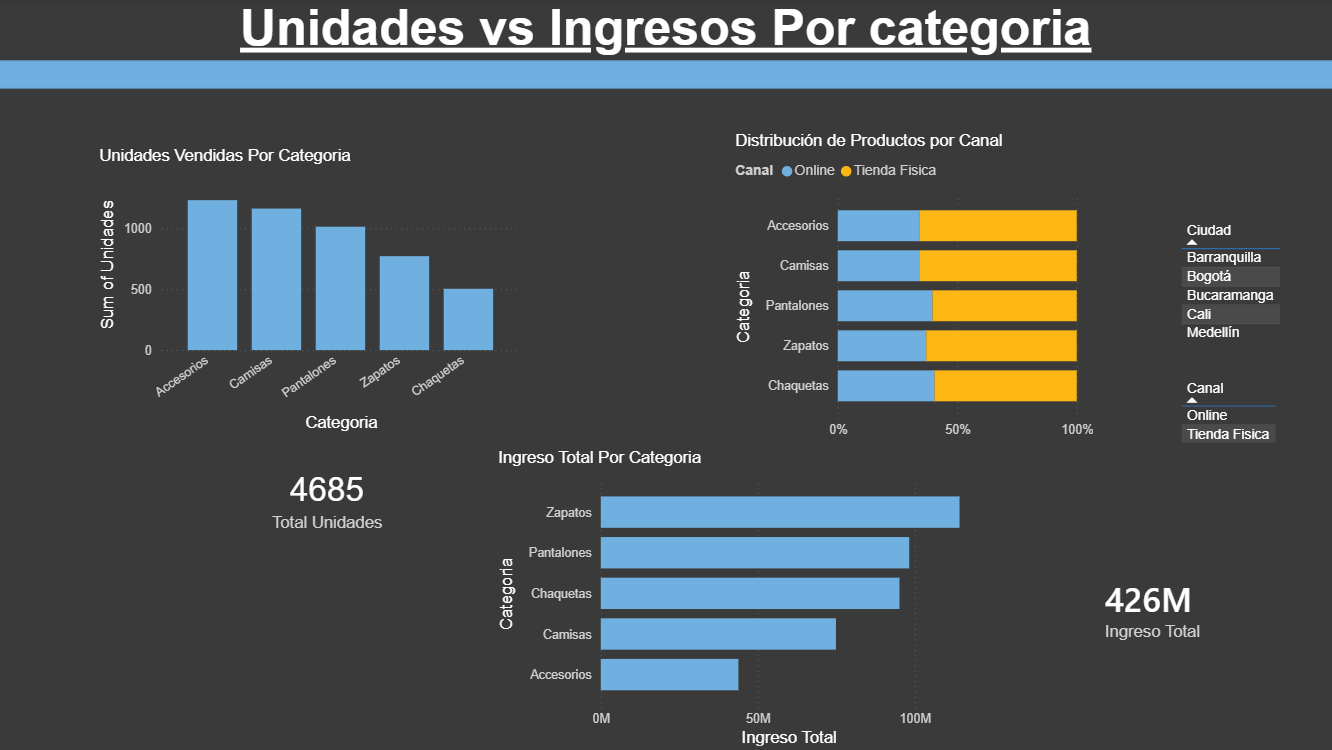

Layout of this report page (visuals, bound fields, positions):
{"tool":"powerbi","page":{"name":"Conclusiones ","canvas":[1280,720],"ordinal":6},"visuals":[{"type":"shape","title":"Ticket Promedio","box":[0,178.2,457.7,62.8],"z":0},{"type":"shape","title":"Diferencia entre unidades vendidas y Ganancias","box":[542.8,178.2,712.9,62.8],"z":1000},{"type":"textbox","box":[542.8,241,712.9,95.2],"z":2000},{"type":"columnChart","fields":{"Category":["Hoja2.Categoria"],"Y":["Hoja2.Ingreso Total"]},"box":[542.8,374.7,392.9,305.8],"z":3000},{"type":"columnChart","fields":{"Category":["Hoja2.Categoria"],"Y":["Sum(Hoja2.Unidades)"]},"box":[935.7,374.7,344.3,307.8],"z":4000},{"type":"shape","title":"¿Que nos dicen los datos?","box":[0,0,1280,77],"z":5000},{"type":"textbox","box":[0,241,457.7,188.4],"z":6000}]}

Visuals, with their boxes in screenshot pixels (x1, y1, x2, y2), scaled from the page's 1280x720 canvas onto the 1332x750 screenshot:
"Ticket Promedio" shape: box=[0, 186, 476, 251]
"Diferencia entre unidades vendidas y Ganancias" shape: box=[565, 186, 1307, 251]
textbox: box=[565, 251, 1307, 350]
columnChart - Hoja2.Categoria x Hoja2.Ingreso Total: box=[565, 390, 974, 709]
columnChart - Hoja2.Categoria x Sum(Hoja2.Unidades): box=[974, 390, 1331, 711]
"¿Que nos dicen los datos?" shape: box=[0, 0, 1331, 80]
textbox: box=[0, 251, 476, 447]
